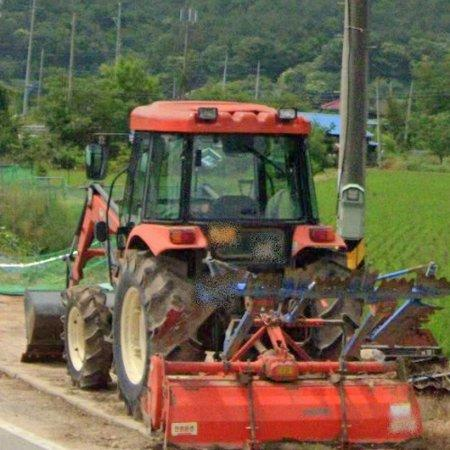tractors: (25, 101, 436, 450)
